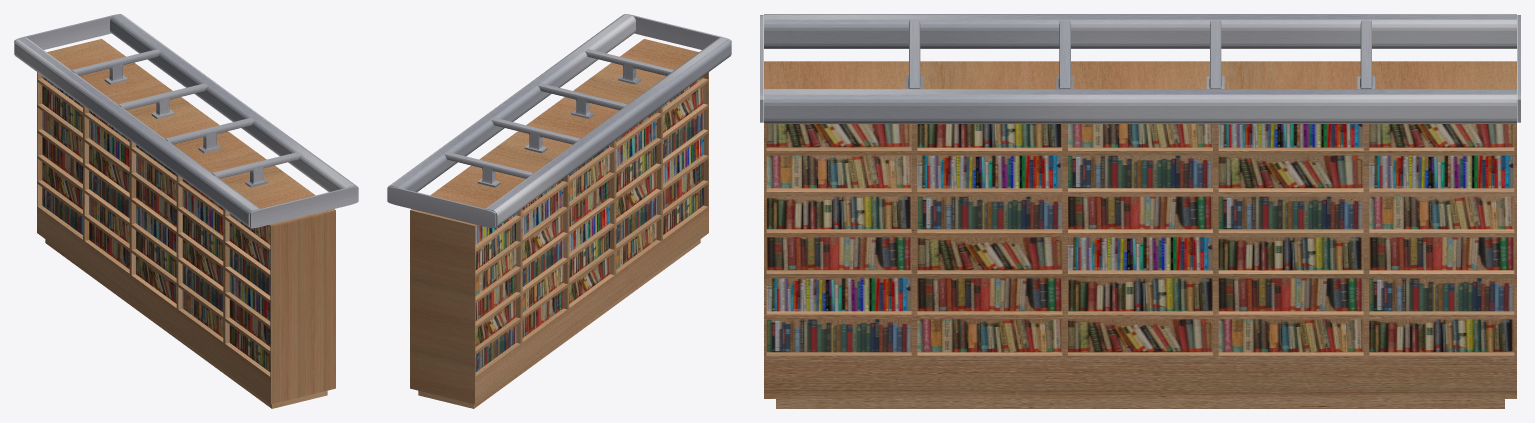
Rendered from Shelf6x5Full.fbx.
3 views of the same model, side by side, from view 1: azimuth 30°, elevation 25°; view 2: azimuth 150°, elevation 25°; view 3: azimuth 270°, elevation 25° (orthographic). The views are drawn at different scales.
Parts seen in each view (by area): view 1: Shelf6x5, Shelf6x5Lamp; view 2: Shelf6x5, Shelf6x5Lamp; view 3: Shelf6x5, Shelf6x5Lamp.
Part boxes in pixels (<box>): Shelf6x5: <box>37,39,335,408</box>; Shelf6x5Lamp: <box>14,14,358,228</box>; Shelf6x5: <box>410,39,708,408</box>; Shelf6x5Lamp: <box>387,14,731,228</box>; Shelf6x5: <box>764,61,1516,408</box>; Shelf6x5Lamp: <box>760,14,1520,123</box>.
Size of the model in its own units: 272 by 488 by 1010.
